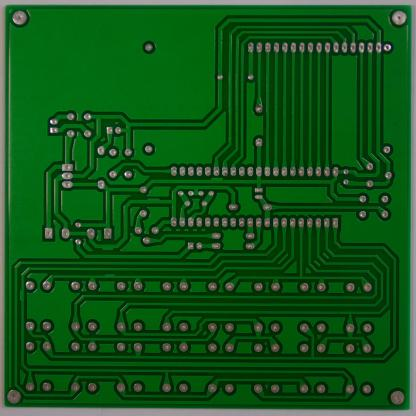spur: (16, 287, 26, 304), (98, 244, 115, 253), (145, 196, 162, 204), (209, 174, 225, 182), (102, 272, 118, 278)
